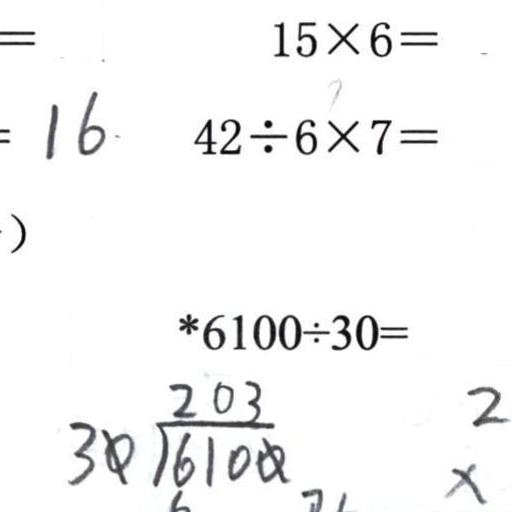ans: (37, 86, 105, 159)
